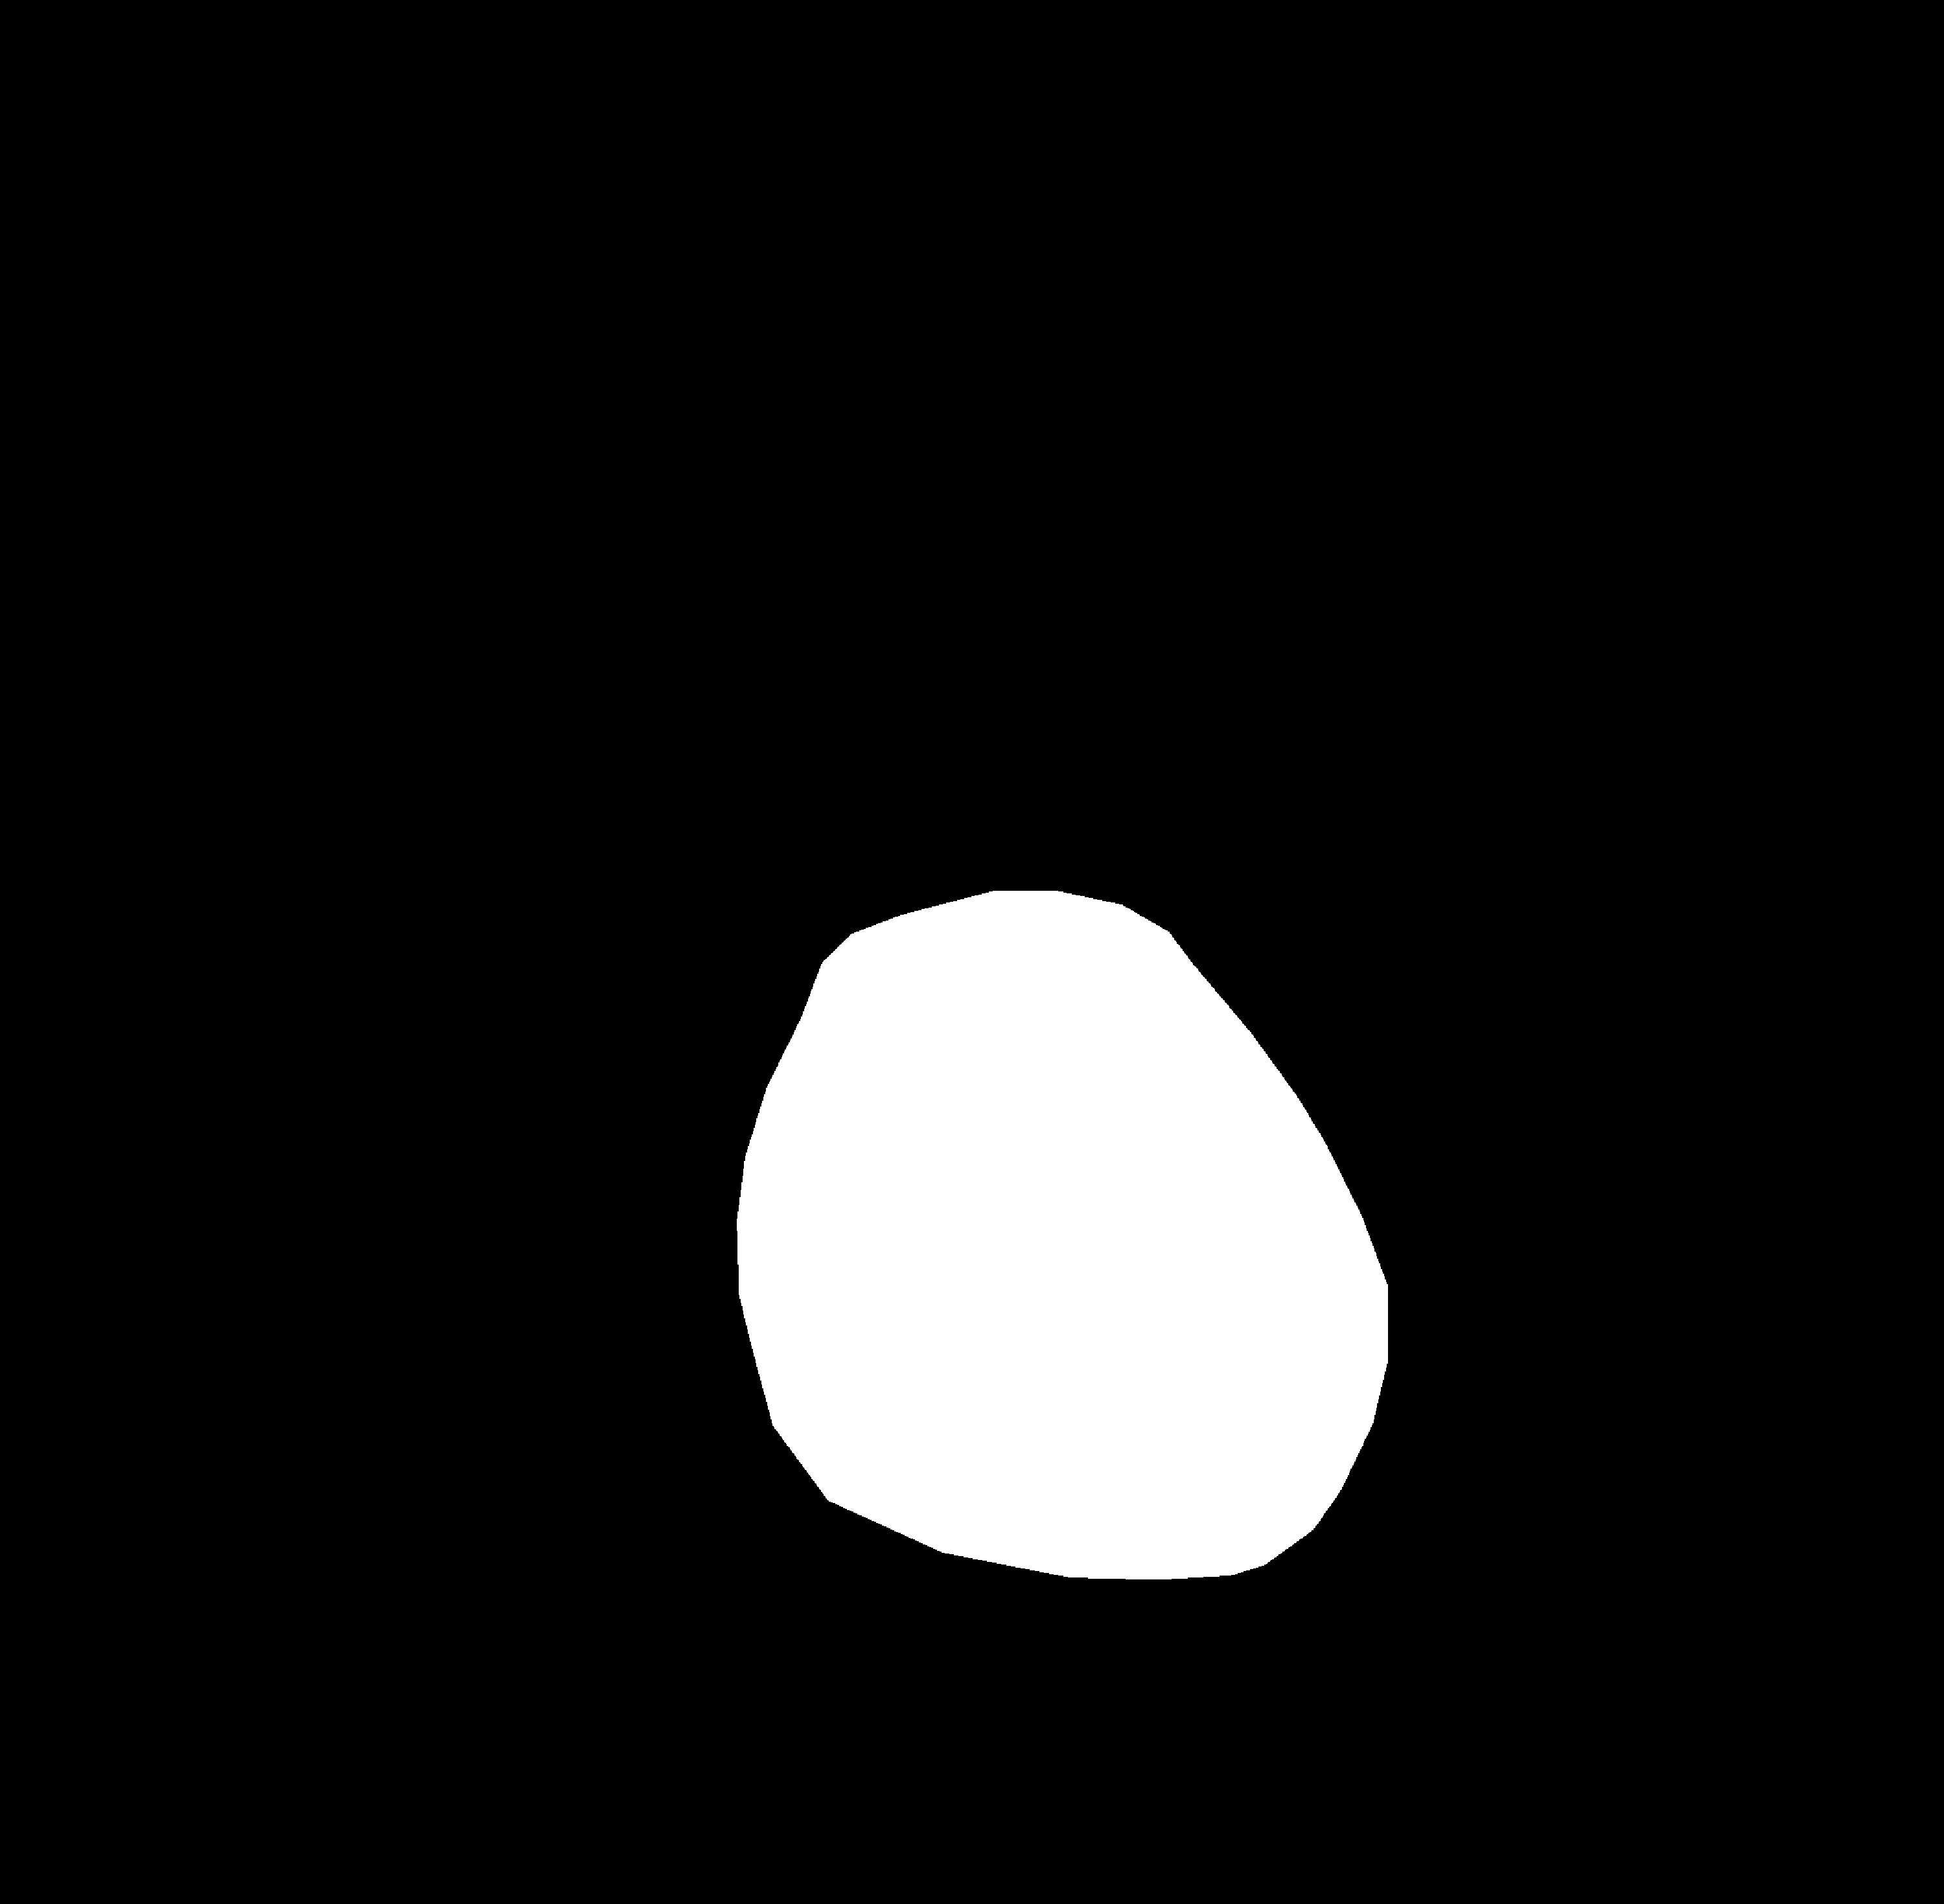heart: (739, 968, 1384, 1583)
left_lung: (303, 279, 879, 1587)
right_lung: (1008, 289, 1548, 1728)
